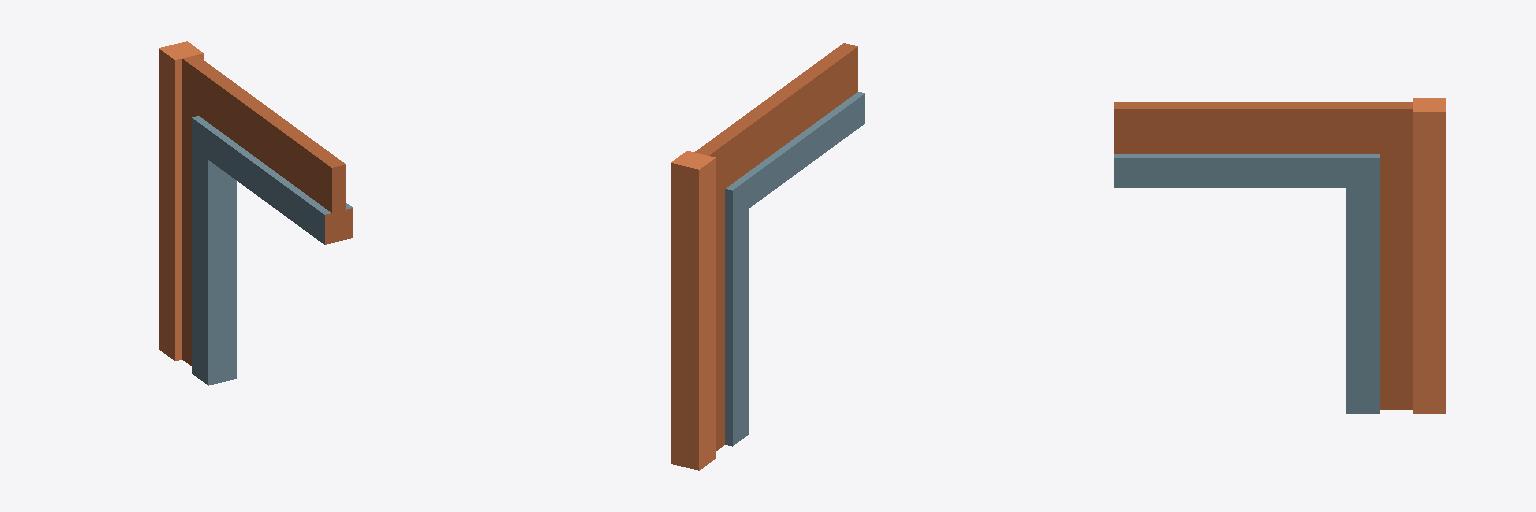
The picture shows the model from 3 angles: view 1: azimuth 30°, elevation 25°; view 2: azimuth 150°, elevation 25°; view 3: azimuth 270°, elevation 25°; orthographic projection.
Parts seen in each view (by area): view 1: wallWoodDoorwaySquareWide; view 2: wallWoodDoorwaySquareWide; view 3: wallWoodDoorwaySquareWide.
Part boxes in pixels (left/top/right/bottom): wallWoodDoorwaySquareWide: left=159, top=41, right=352, bottom=385; wallWoodDoorwaySquareWide: left=671, top=43, right=864, bottom=470; wallWoodDoorwaySquareWide: left=1114, top=98, right=1445, bottom=413.
Size of the model in its own units: 0.1 by 1 by 1.